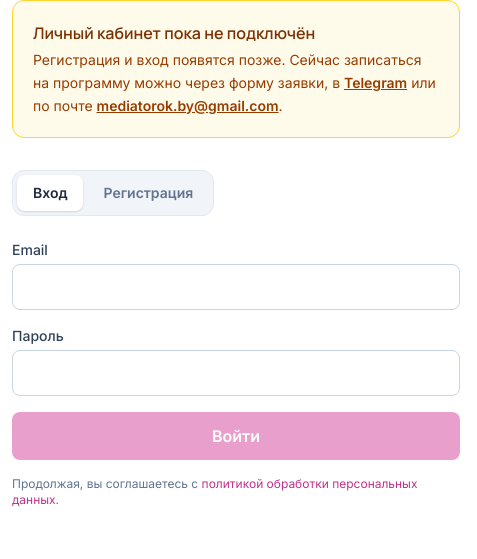
Test case: AuthForm › explains, rather than fails silently, if it is submitted anyway
This screenshot has width=477, height=559.
Type "a@b.by" into the field labelled "Email" at (236, 287), box [12,264,460,310]
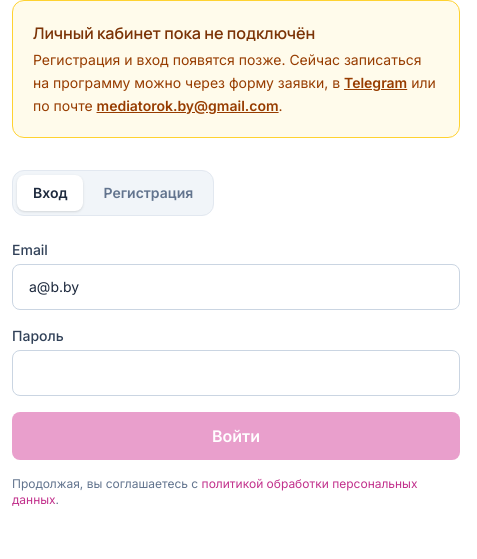
Type "long-enough" into the password field labelled "Пароль" at (236, 373), box [12,350,460,396]
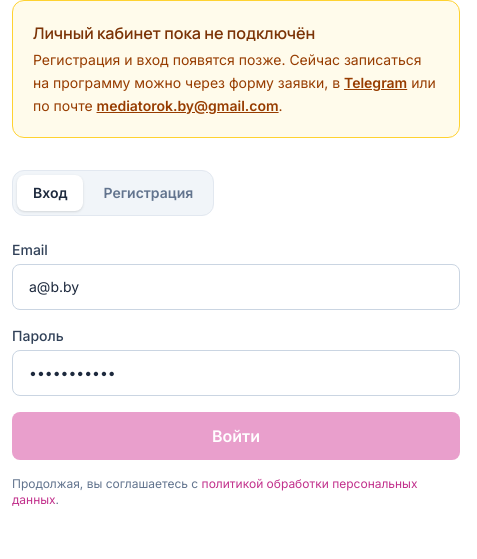
Submit the form, box [12,240,460,508]
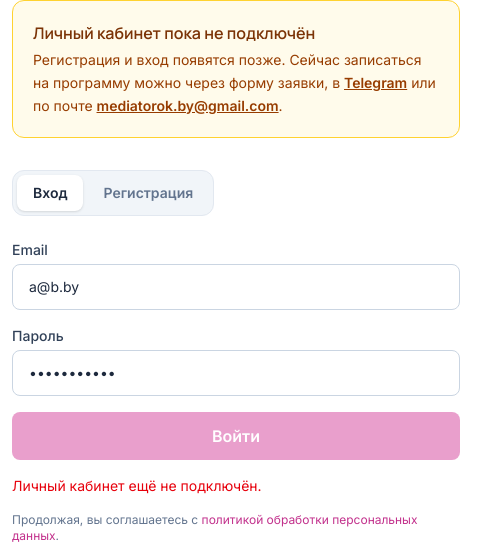
Check: the message reads "Личный кабинет ещё не подключён.", box [12,477,262,494]
